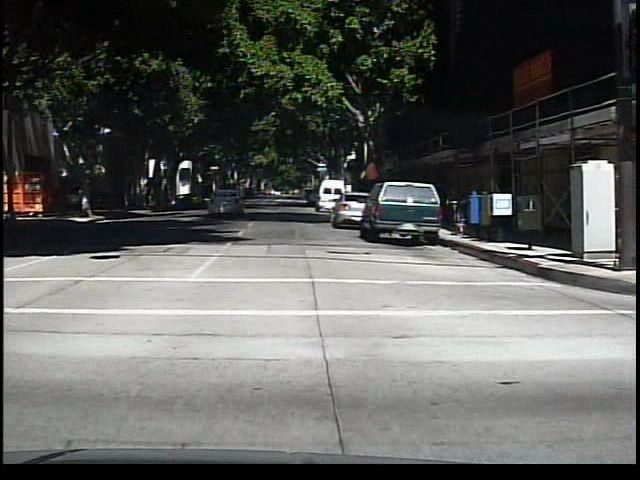person: (67, 184, 84, 220)
